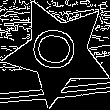O_E: (29, 27, 87, 77)
